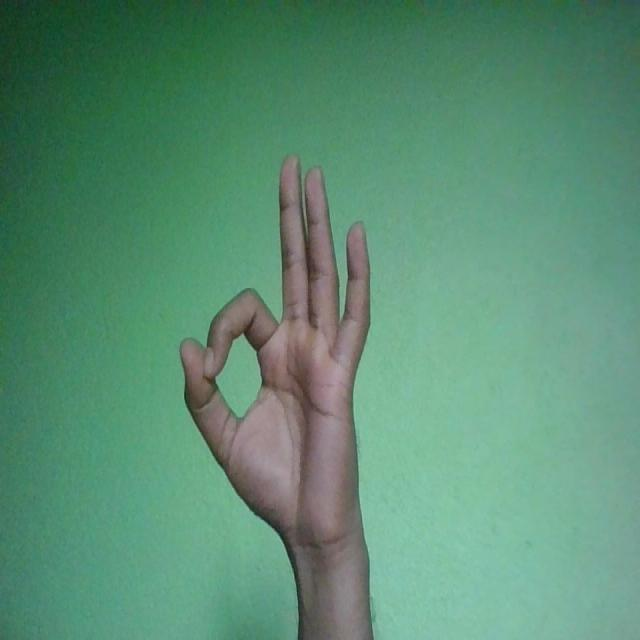Rock On: (179, 152, 372, 561)
